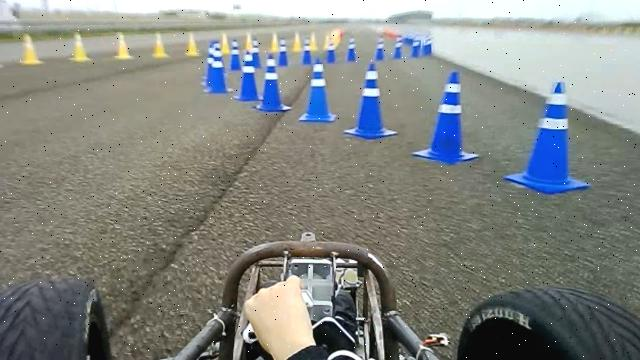blue cone: (504, 80, 592, 194), (412, 70, 480, 164), (344, 62, 398, 139), (298, 61, 338, 122), (254, 54, 287, 112), (236, 50, 258, 102)
